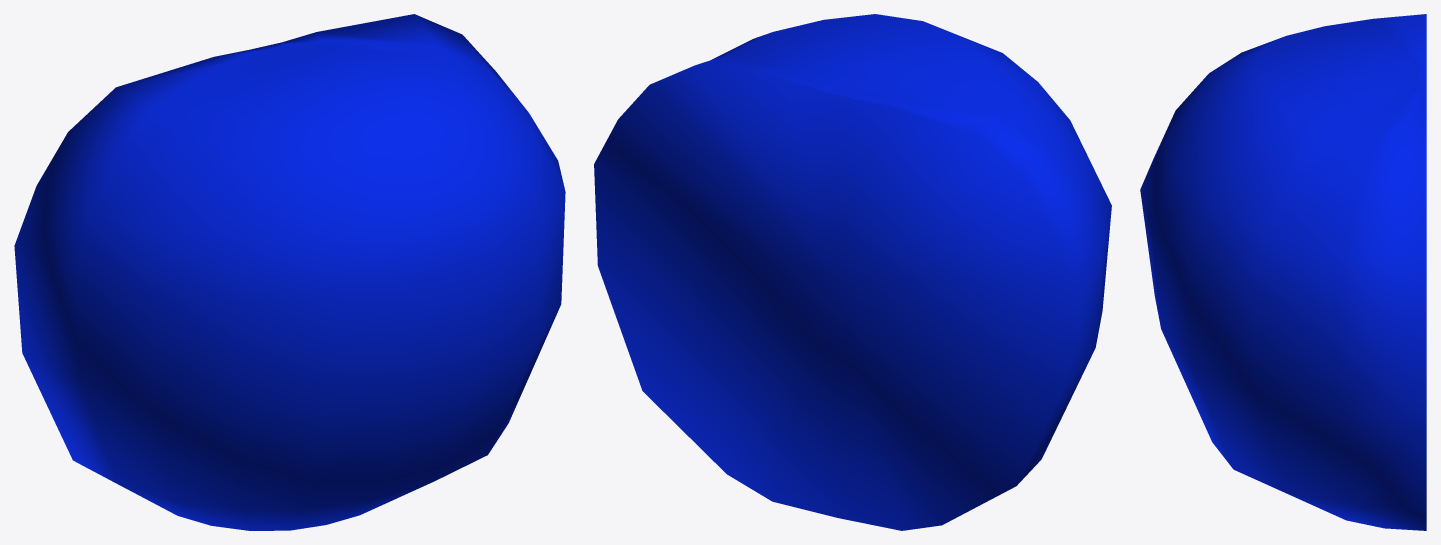
Rendered from S_Tomato_cut.fbx.
3 views of the same model, side by side, from view 1: azimuth 30°, elevation 25°; view 2: azimuth 150°, elevation 25°; view 3: azimuth 270°, elevation 25° (orthographic). The views are drawn at different scales.
Parts seen in each view (by area): view 1: Cylinder.005_low; view 2: Cylinder.005_low; view 3: Cylinder.005_low.
Part boxes in pixels (x1,y1,x2,y2): Cylinder.005_low: (14,14,565,530); Cylinder.005_low: (594,14,1111,530); Cylinder.005_low: (1140,14,1426,530).
Bounding box in the file's own units: 0.1444 × 0.1249 × 0.0758.
